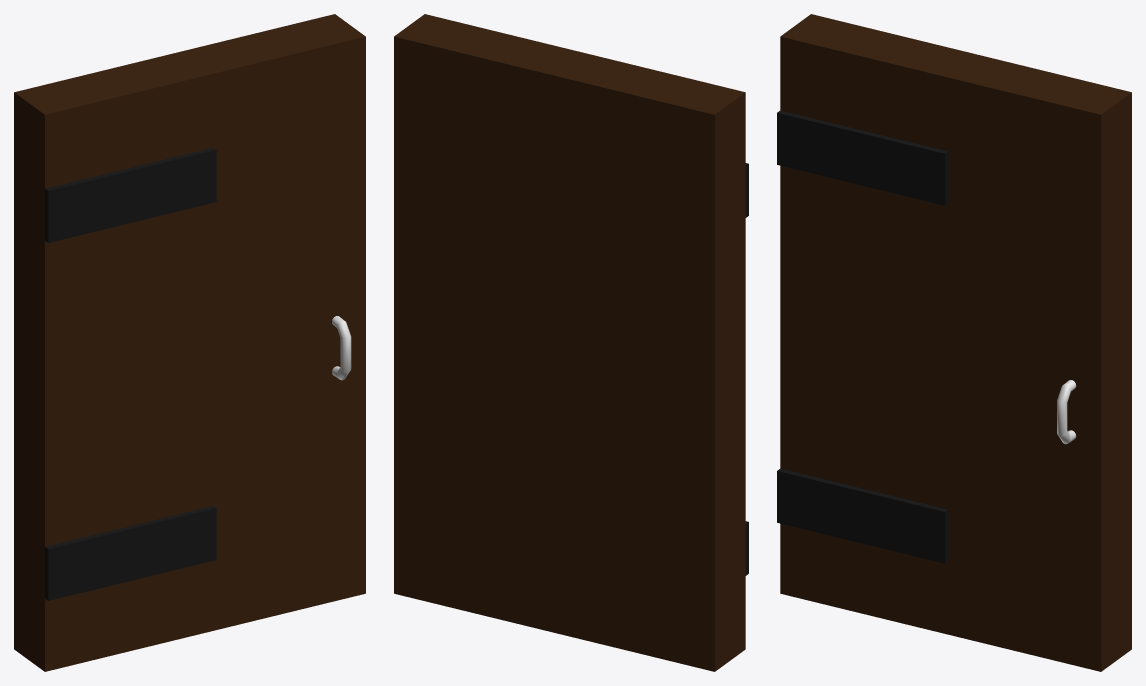
Rendered from Door02_FBX.fbx.
3 views of the same model, side by side, from view 1: azimuth 30°, elevation 25°; view 2: azimuth 150°, elevation 25°; view 3: azimuth 330°, elevation 25° (orthographic).
Parts seen in each view (by area): view 1: Door006, Line005; view 2: Door006; view 3: Door006, Line005.
Boxes of the visible parts, <box> form: Door006: <box>14,14,365,671</box>; Line005: <box>332,316,351,380</box>; Door006: <box>394,14,748,671</box>; Door006: <box>777,14,1131,671</box>; Line005: <box>1057,380,1076,444</box>.
Bounding box in the file's own units: 143 × 237 × 33.19.
